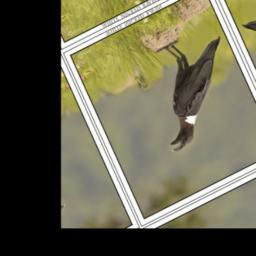Crow: (130, 19, 256, 155)
